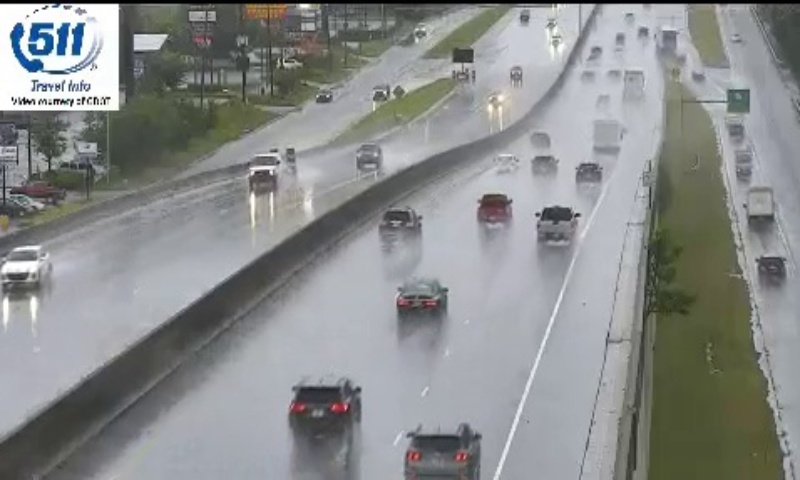car: (403, 422, 482, 480), (289, 377, 359, 432), (396, 280, 448, 318), (378, 207, 420, 243), (537, 205, 577, 241), (477, 194, 512, 222)
